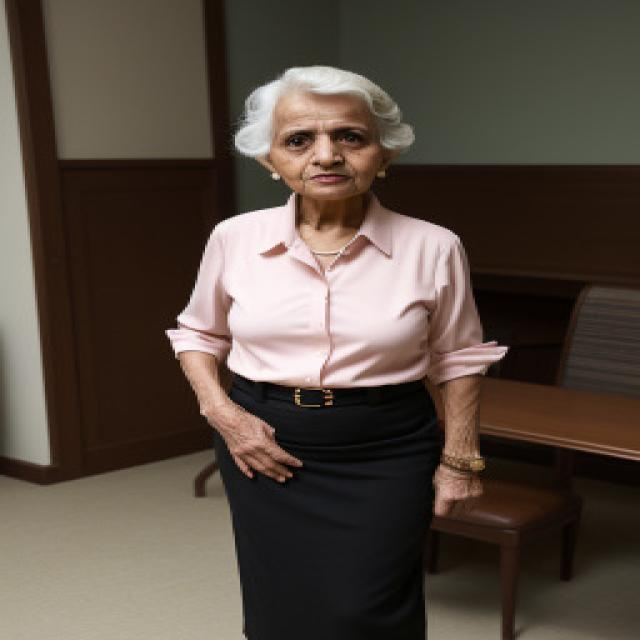Ai human 2: (171, 58, 529, 638)
